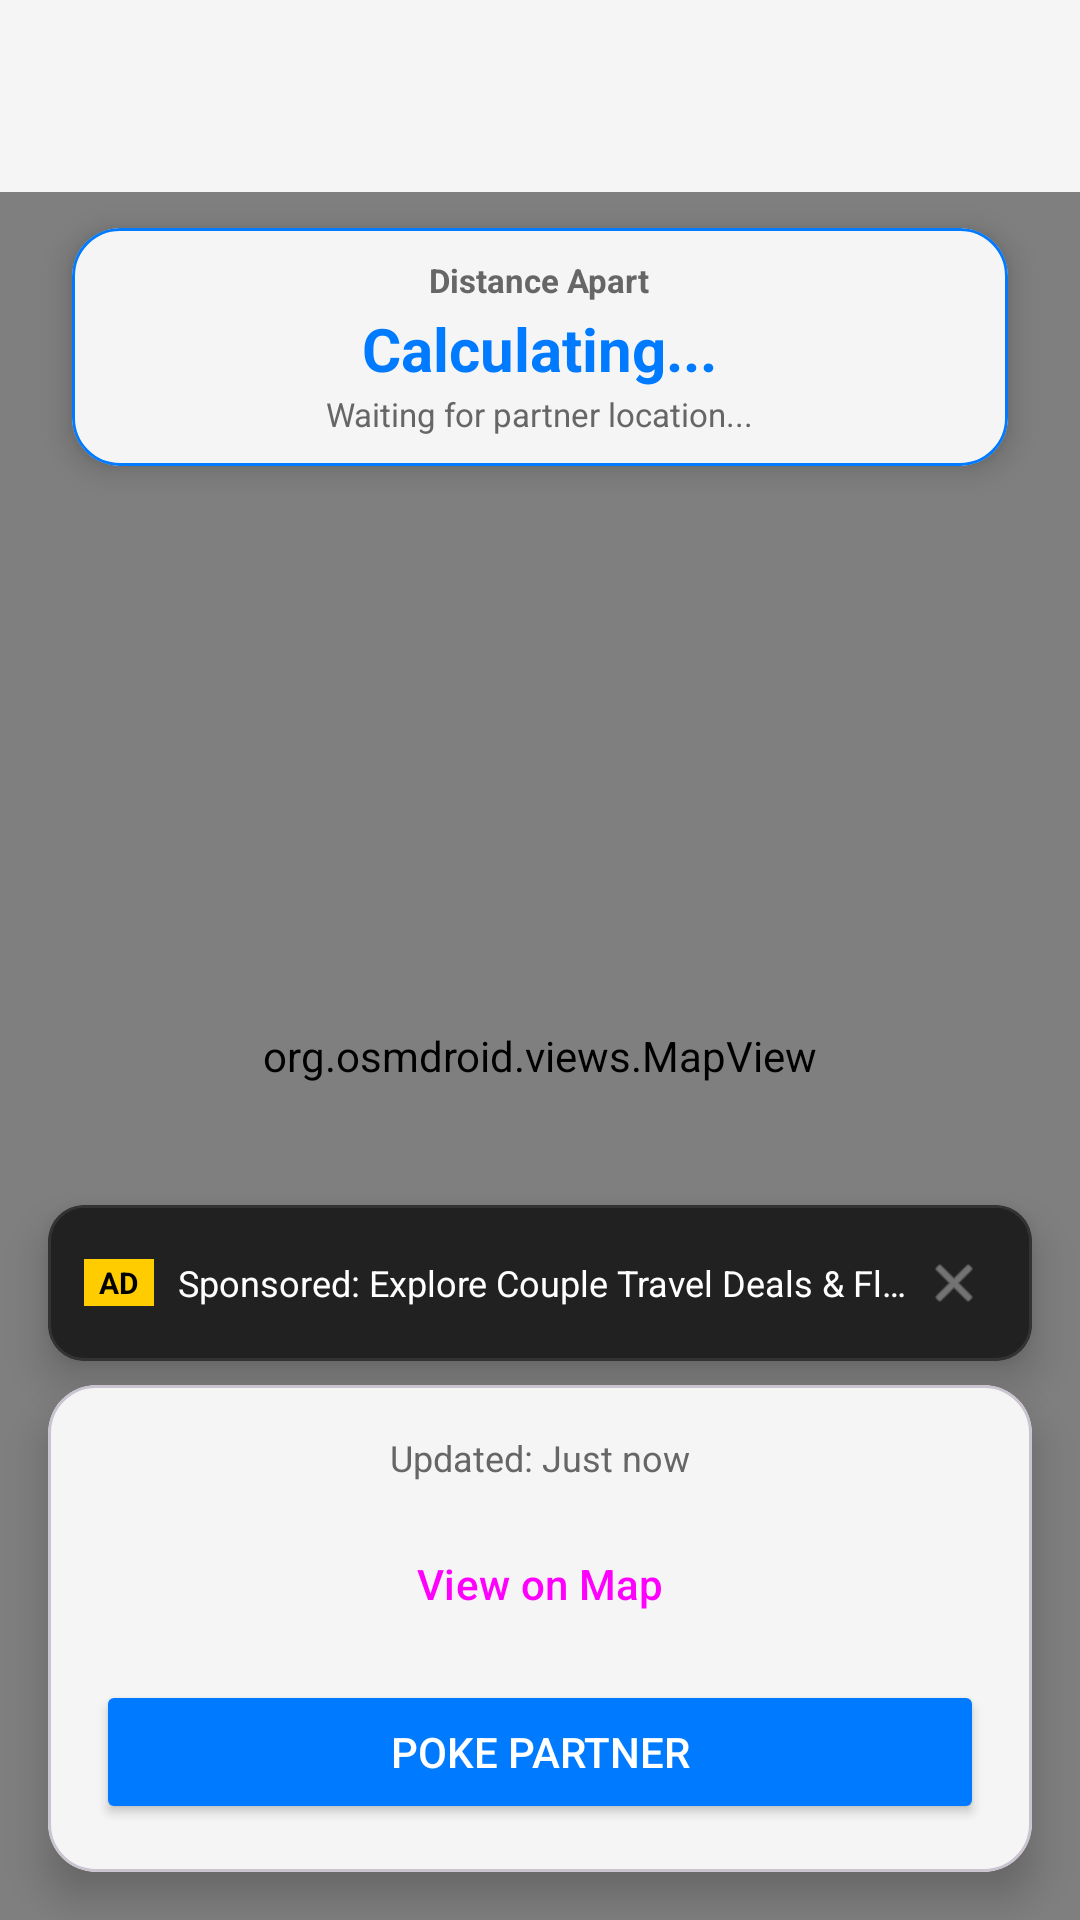

Icons on this 1080*1920 Android screen, each with the point to tap as (x,y):
Close Ad: (954,1283)
